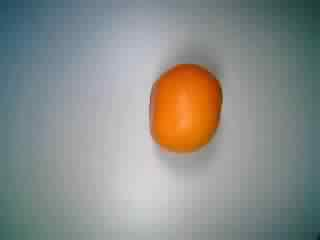orange: (142, 56, 233, 152)
